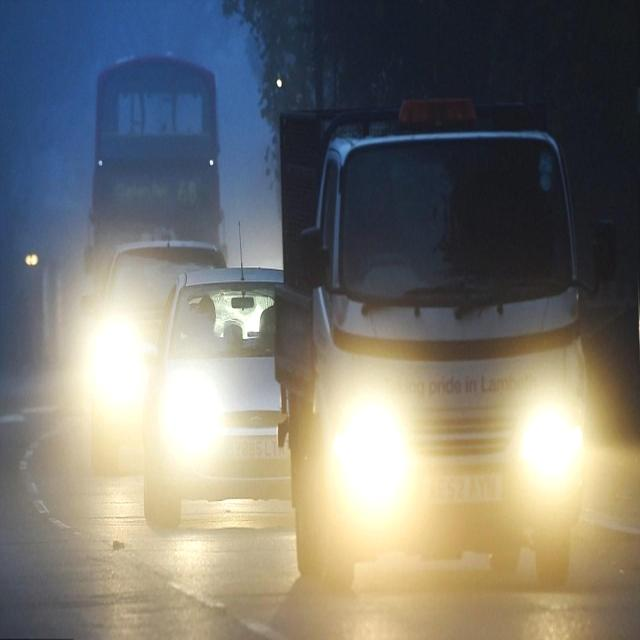Bus: (85, 56, 228, 275)
Car: (136, 262, 299, 536), (72, 235, 234, 470)
Truck: (272, 95, 594, 590)
